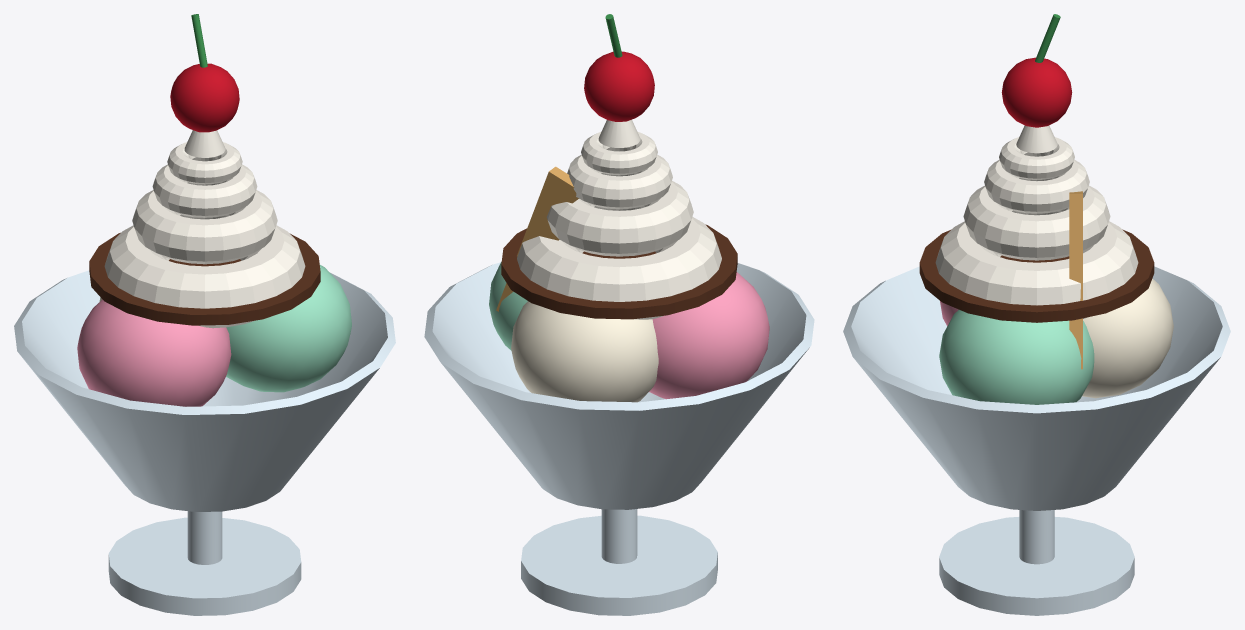
The model's file is Ice_L6.fbx.
3 views of the same model, side by side, from view 1: azimuth 30°, elevation 25°; view 2: azimuth 150°, elevation 25°; view 3: azimuth 270°, elevation 25° (orthographic). The views are drawn at different scales.
Parts seen in each view (by area): view 1: I6_Bowl, I6_Scoop (×2), I6_Base, I6_Whip_1, I6_Whip_2, I6_Sauce, I6_Cherry, I6_Whip_3, I6_Whip_4, I6_Stem, I6_Whip_Tip; view 2: I6_Bowl, I6_Scoop (×3), I6_Base, I6_Whip_1, I6_Whip_2, I6_Sauce, I6_Cherry, I6_Whip_3, I6_Whip_4, I6_Stem, I6_Wafer, I6_Whip_Tip; view 3: I6_Bowl, I6_Scoop (×2), I6_Base, I6_Whip_1, I6_Whip_2, I6_Sauce, I6_Cherry, I6_Whip_3, I6_Whip_4, I6_Stem, I6_Wafer, I6_Whip_Tip.
Boxes of the visible parts, x1,y1,x2,y2 form: I6_Bowl: (14, 270, 395, 511); I6_Scoop (×2): (77, 265, 351, 406); I6_Base: (108, 517, 301, 615); I6_Whip_1: (104, 225, 305, 328); I6_Whip_2: (132, 190, 277, 264); I6_Sauce: (89, 232, 320, 325); I6_Cherry: (170, 63, 239, 132); I6_Whip_3: (152, 164, 257, 217); I6_Whip_4: (167, 142, 242, 184); I6_Stem: (187, 511, 222, 564); I6_Whip_Tip: (184, 130, 225, 157); I6_Bowl: (424, 262, 814, 509); I6_Scoop (×3): (489, 262, 769, 402); I6_Base: (521, 515, 717, 615); I6_Whip_1: (517, 217, 721, 319); I6_Whip_2: (546, 181, 693, 256); I6_Sauce: (501, 224, 737, 319); I6_Cherry: (584, 51, 654, 121); I6_Whip_3: (567, 155, 672, 209); I6_Whip_4: (581, 131, 657, 175); I6_Stem: (601, 509, 637, 563); I6_Wafer: (496, 166, 578, 311); I6_Whip_Tip: (598, 119, 640, 147); I6_Bowl: (843, 266, 1230, 510); I6_Scoop (×2): (939, 278, 1173, 404); I6_Base: (939, 517, 1134, 615); I6_Whip_1: (935, 221, 1138, 318); I6_Whip_2: (963, 185, 1110, 260); I6_Sauce: (919, 229, 1154, 322); I6_Cherry: (1001, 57, 1072, 127); I6_Whip_3: (984, 160, 1089, 213); I6_Whip_4: (999, 137, 1074, 179); I6_Stem: (1019, 510, 1054, 564); I6_Wafer: (1069, 191, 1082, 369); I6_Whip_Tip: (1016, 125, 1057, 153).
Bounding box in the file's own units: 19.82 × 31.57 × 19.82.
